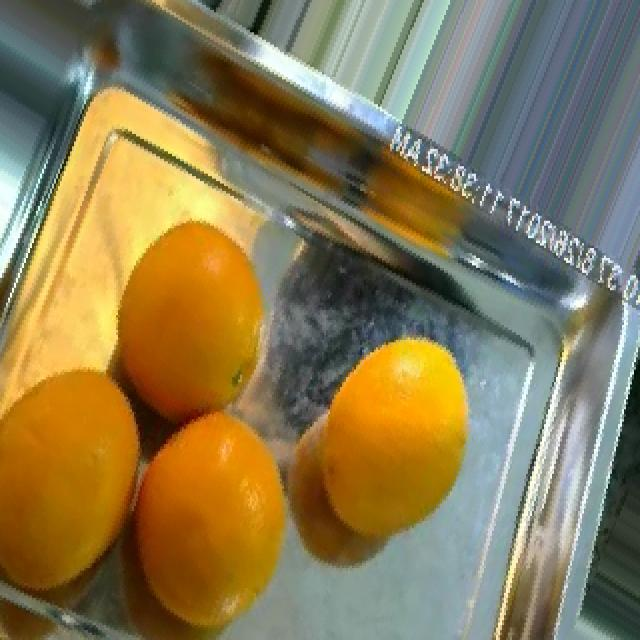Fruit: (272, 400, 444, 590)
